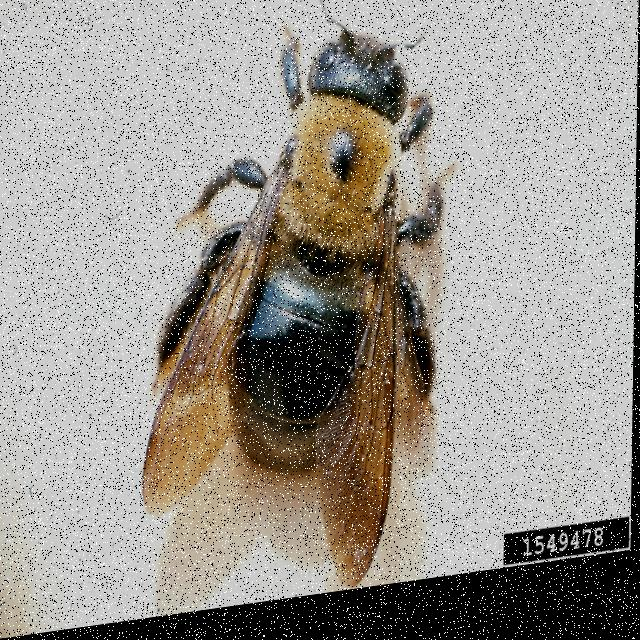Xylocopa: (124, 0, 464, 619)
